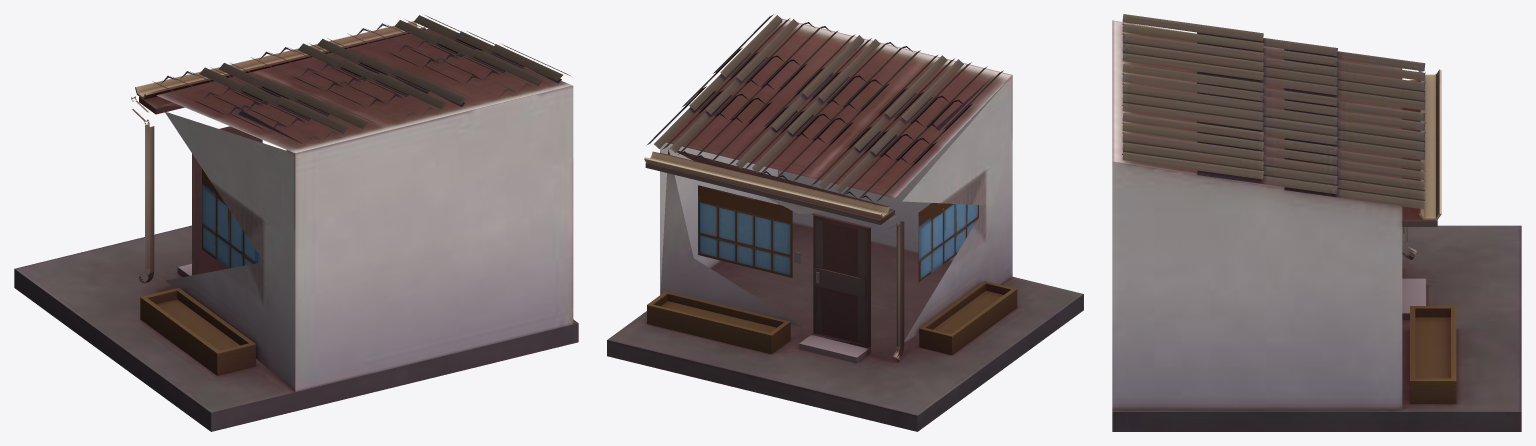
Rendered from casa-techo-ondulado.glb.
3 renders of one model, left to right at view 1: azimuth 30°, elevation 25°; view 2: azimuth 150°, elevation 25°; view 3: azimuth 270°, elevation 25°, orthographic. The views are drawn at different scales.
Visible parts, largest first — view 1: Paredes.001, Piso.001, Techo.001, macetas.001, Ventana.001, Canal, Material.006, Puerta.001; view 2: Paredes.001, Piso.001, Techo.001, Ventana.001, macetas.001, Puerta.001, Canal, Base techo.001, Material.006, Escalon.001; view 3: Paredes.001, Techo.001, Piso.001, macetas.001, Canal, Escalon.001, Base techo.001.
Boxes of the visible parts, x1,y1,x2,y2 form: Paredes.001: (156, 28, 573, 392); Piso.001: (14, 225, 578, 431); Techo.001: (152, 15, 570, 144); macetas.001: (140, 288, 255, 375); Ventana.001: (202, 150, 293, 268); Canal: (135, 21, 425, 99); Material.006: (131, 96, 154, 283); Puerta.001: (192, 126, 262, 275); Paredes.001: (660, 18, 1012, 341); Piso.001: (607, 223, 1083, 431); Techo.001: (646, 14, 1003, 201); Ventana.001: (698, 185, 978, 281); macetas.001: (647, 281, 1017, 355); Puerta.001: (812, 213, 870, 348); Canal: (644, 151, 889, 218); Base techo.001: (645, 152, 894, 224); Material.006: (884, 215, 904, 362); Escalon.001: (799, 333, 870, 362); Paredes.001: (1112, 20, 1402, 409); Techo.001: (1122, 14, 1425, 209); Piso.001: (1112, 225, 1521, 431); macetas.001: (1410, 306, 1456, 403); Canal: (1418, 69, 1441, 220); Escalon.001: (1402, 278, 1426, 319); Base techo.001: (1402, 80, 1437, 226).
Bounding box in the file's own units: 5.81 × 4.03 × 5.38.
11 materials, 11 textured.
